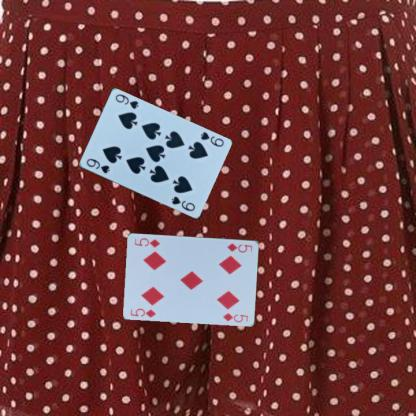5d: (224, 240, 254, 254), (128, 306, 157, 318)
9s: (198, 129, 224, 148), (84, 156, 110, 174)
